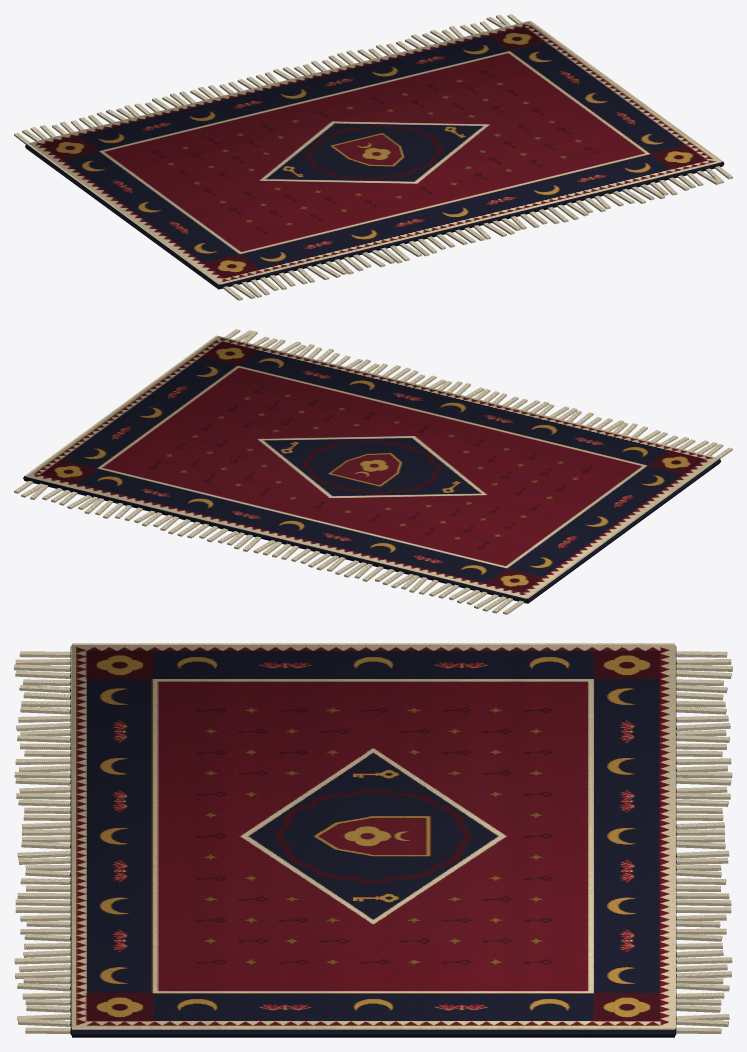
File: DormRug.fbx
3 renders of one model, top to bottom at view 1: azimuth 30°, elevation 25°; view 2: azimuth 150°, elevation 25°; view 3: azimuth 270°, elevation 25°, orthographic. The views are drawn at different scales.
Visible parts, largest first — view 1: DormRug; view 2: DormRug; view 3: DormRug.
Part boxes in pixels (left/top/right/bottom): DormRug: left=14, top=14, right=732, bottom=300; DormRug: left=14, top=329, right=732, bottom=614; DormRug: left=14, top=643, right=732, bottom=1037.
Size of the model in its own units: 607 by 6 by 475.
